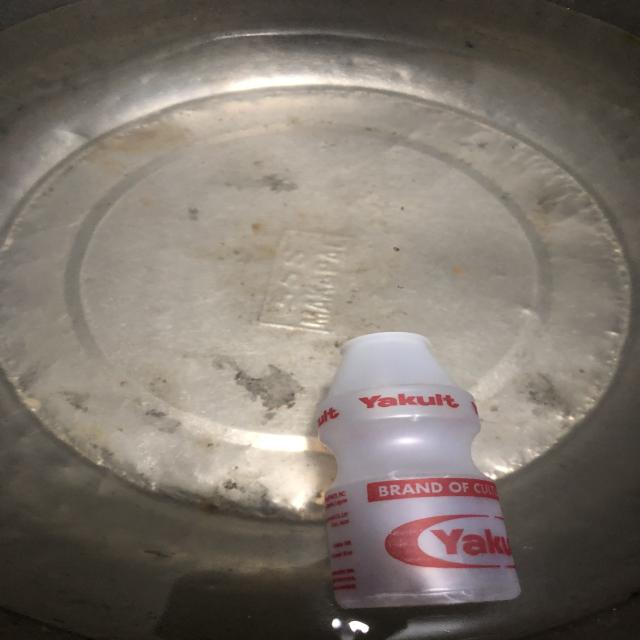Plastic Bottle: (317, 333, 520, 608)
